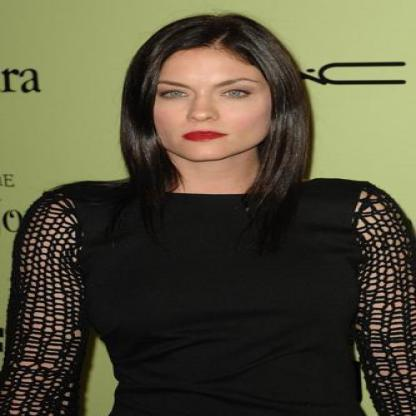long-hair: (101, 160, 341, 202)
